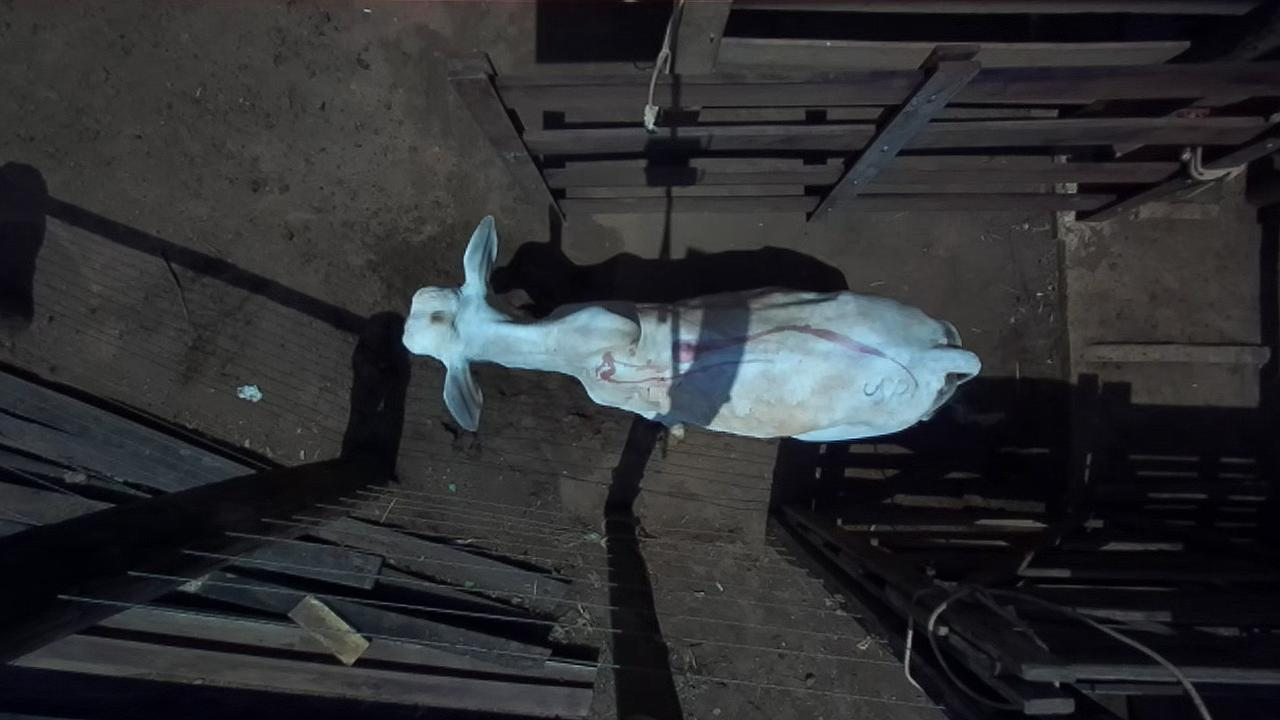cattle: (401, 213, 982, 445)
